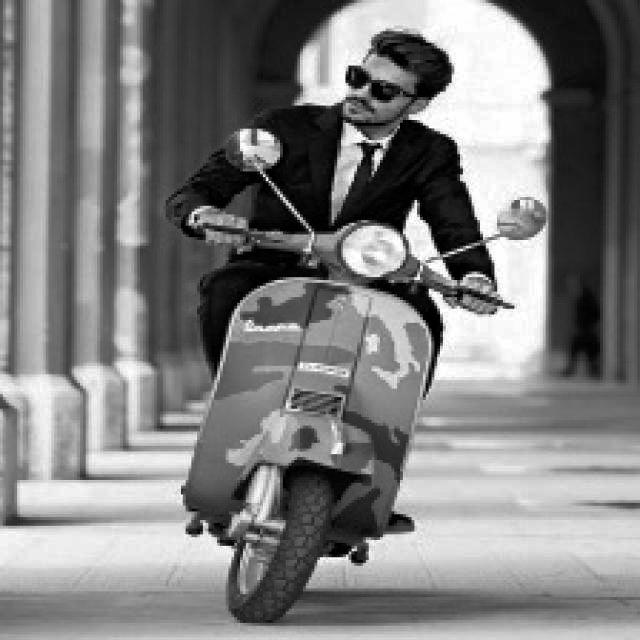Bike: (175, 217, 447, 626)
